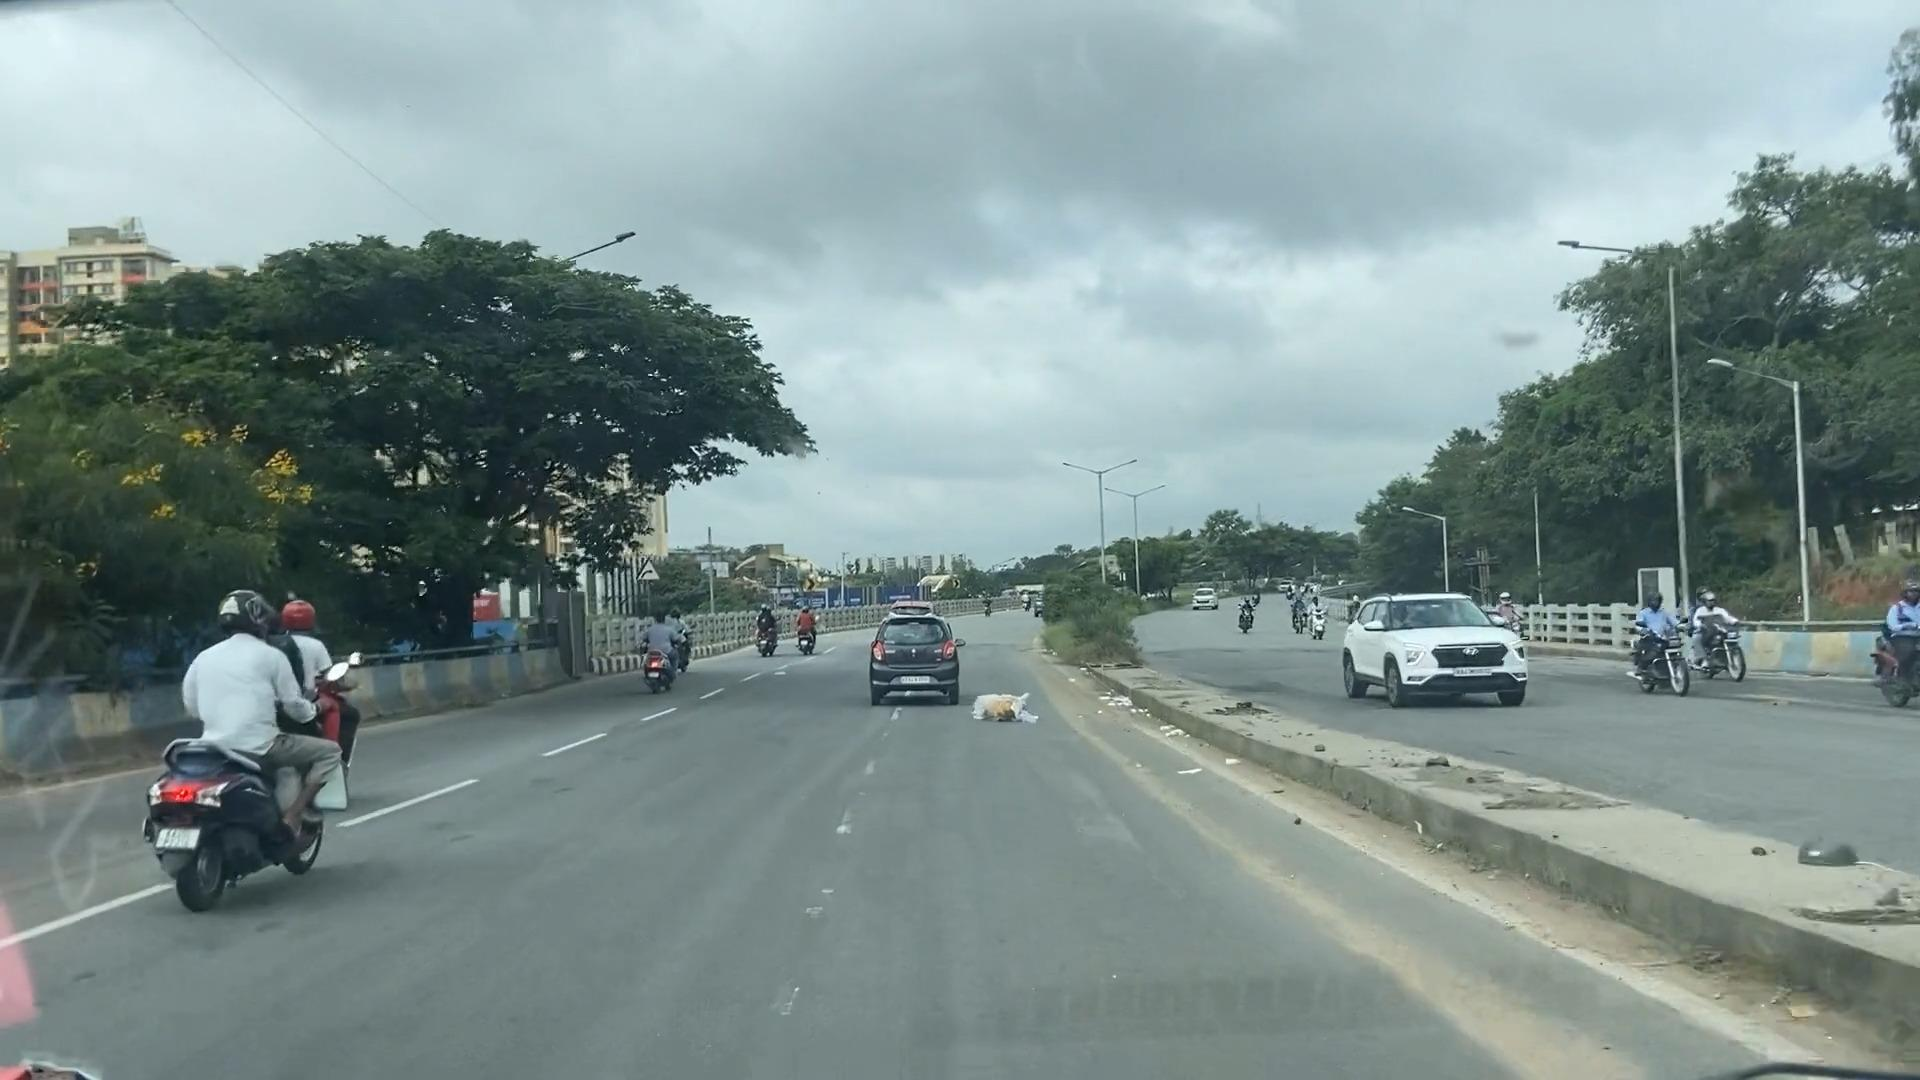LMV: (168, 592, 315, 886), (870, 606, 955, 699), (642, 610, 686, 686)
RoadDamages: (1190, 821, 1369, 906), (1064, 778, 1134, 831)
